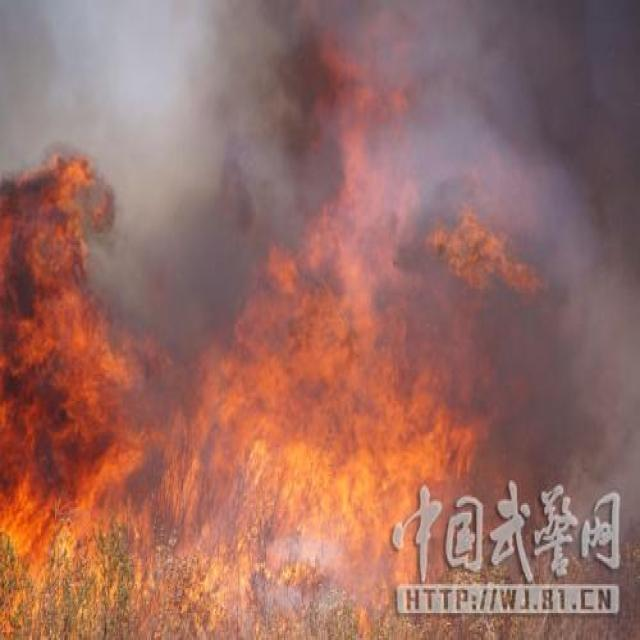fire: (185, 191, 544, 603), (2, 151, 152, 561), (329, 25, 418, 246)
smoke: (203, 15, 335, 243)
